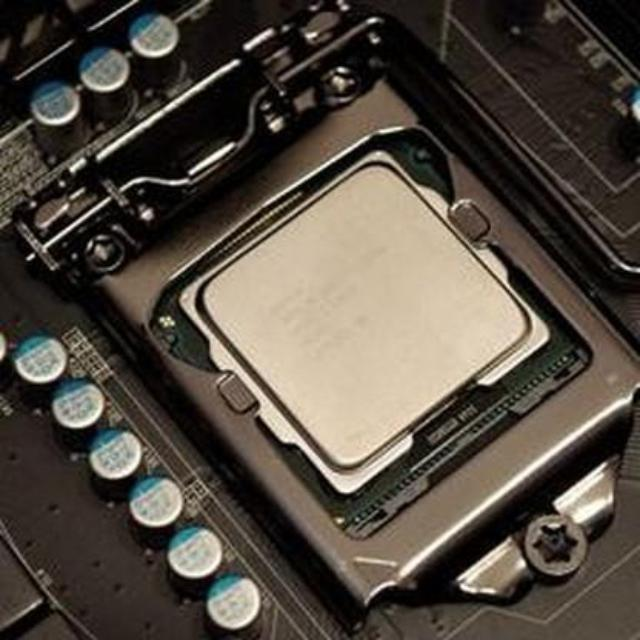CPU: (179, 168, 553, 474)
